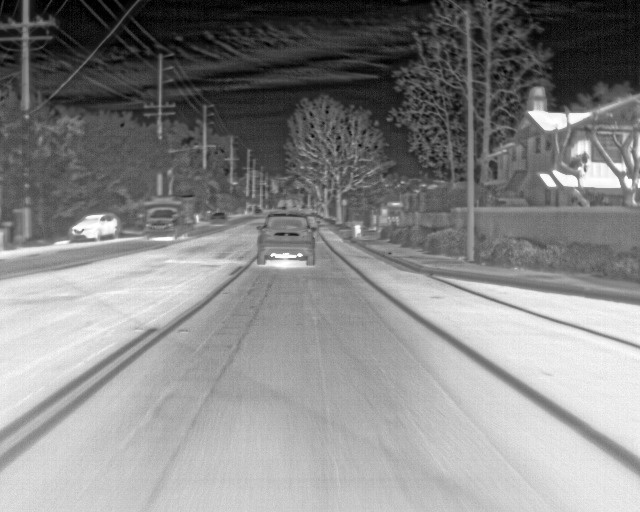vehicle: (258, 211, 314, 267), (73, 212, 121, 243), (146, 207, 187, 240)
